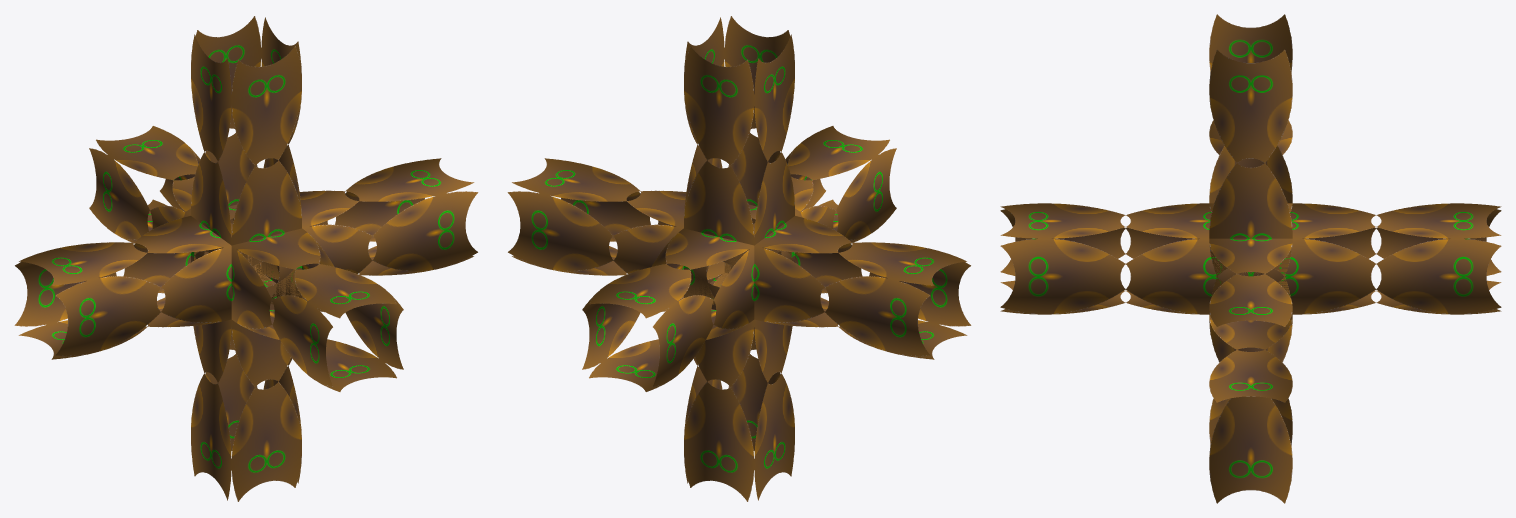
Rendered from Tetrahemihexacron25.gltf.
The picture shows the model from 3 angles, left to right: view 1: azimuth 30°, elevation 25°; view 2: azimuth 150°, elevation 25°; view 3: azimuth 270°, elevation 25°; orthographic projection. The views are drawn at different scales.
Parts seen in each view (by area): view 1: Tetrahemihexacron1; view 2: Tetrahemihexacron1; view 3: Tetrahemihexacron1.
Part boxes in pixels (x1=…): Tetrahemihexacron1: x1=14, y1=16, x2=478, y2=501; Tetrahemihexacron1: x1=507, y1=16, x2=971, y2=501; Tetrahemihexacron1: x1=1000, y1=14, x2=1501, y2=503.
Size of the model in its own units: 6 by 6 by 6.
1 material, 1 textured.
